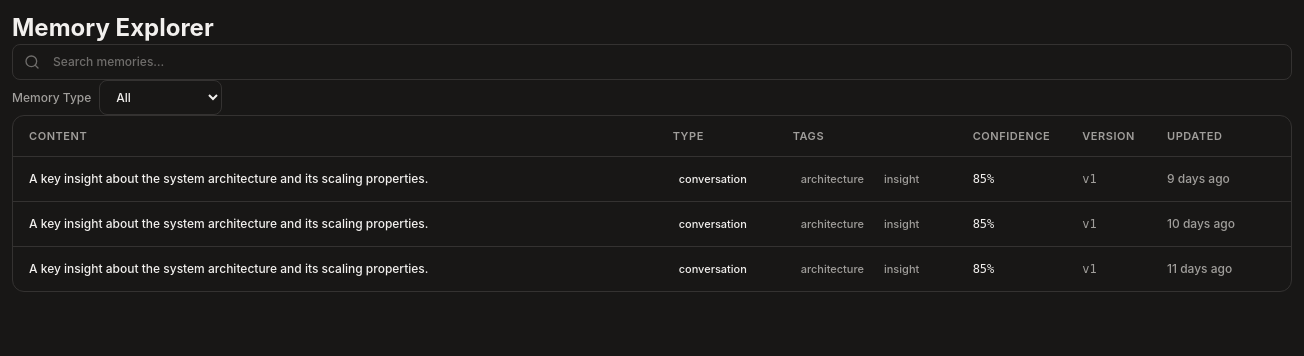
Test case: MemoryExplorerPage › filters by memory type when filter changes
This screenshot has width=1304, height=356.
Select "Decision" in the dropdown labelled "Memory Type": (161, 98) [99, 80, 222, 115]
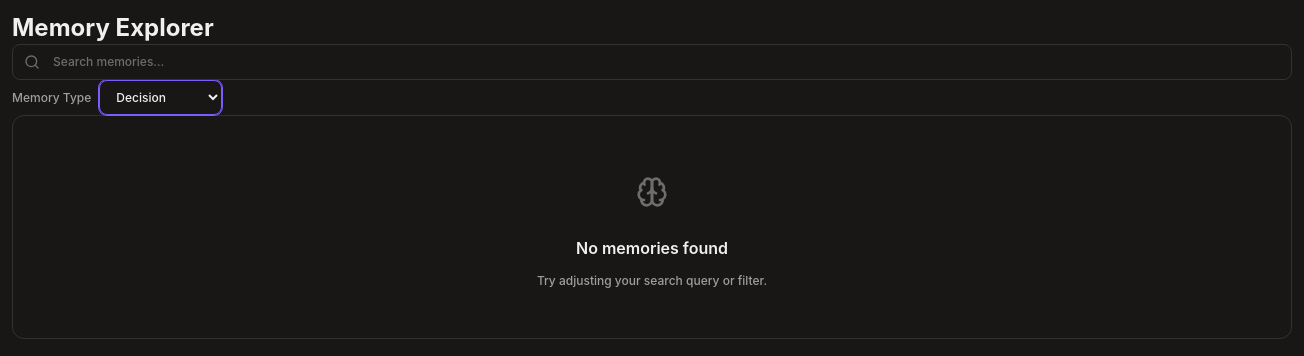
Now the text "system architecture" is not shown
